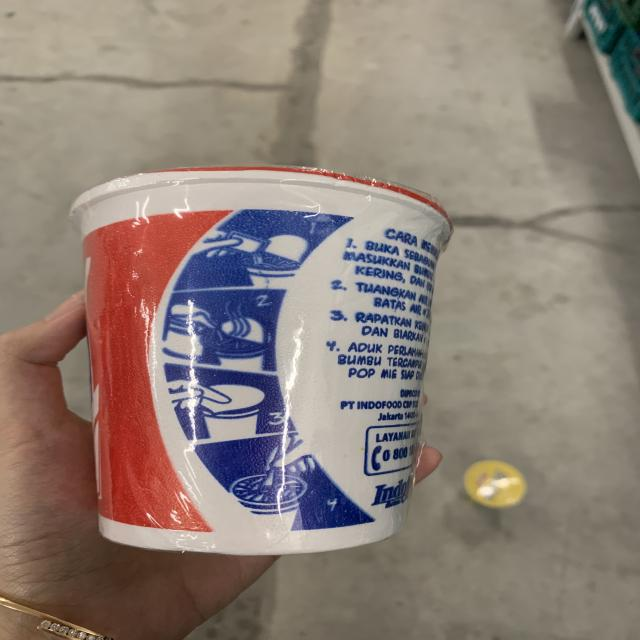object_name: (86, 181, 407, 543)
